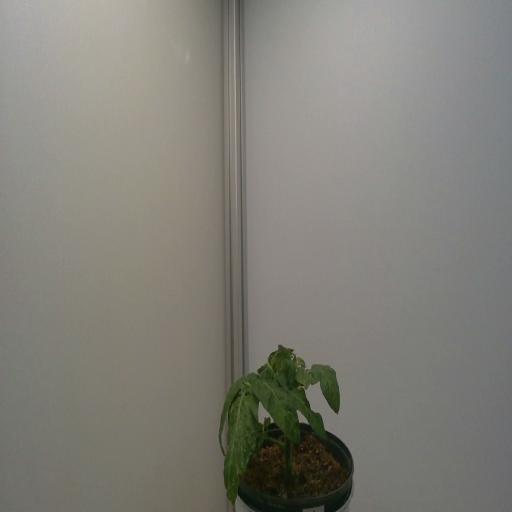Tomato-Leaves-Cupboard-: (224, 400, 259, 512), (309, 351, 359, 406), (259, 388, 288, 444), (212, 362, 228, 457), (268, 334, 296, 365), (302, 410, 335, 434), (296, 361, 310, 396), (277, 367, 289, 385)
